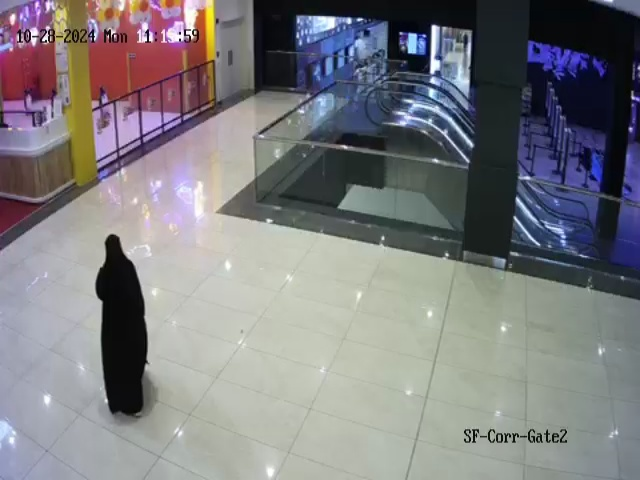female: (77, 228, 171, 428)
